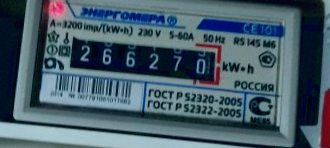0: (193, 55, 206, 76)
2: (76, 41, 92, 64), (146, 50, 160, 71)
6: (99, 45, 113, 67), (123, 48, 137, 68)
7: (169, 52, 183, 72)
screen: (55, 22, 232, 95)
